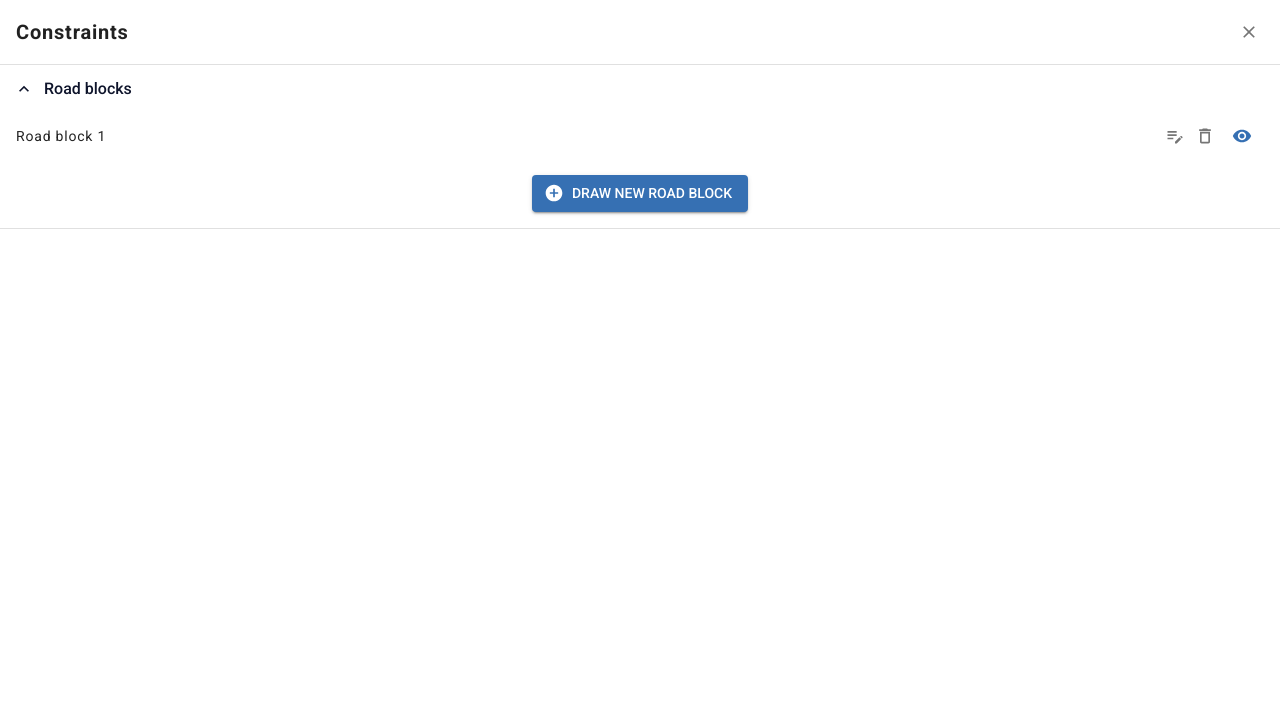
it: ConstraintsView › Delete Confirmation Dialog › opens dialog when delete button is clicked
The width and height of the screenshot is (1280, 720).
Step 1. Click the button named "Delete constraint" → [1205, 136], box [1190,121,1220,151]
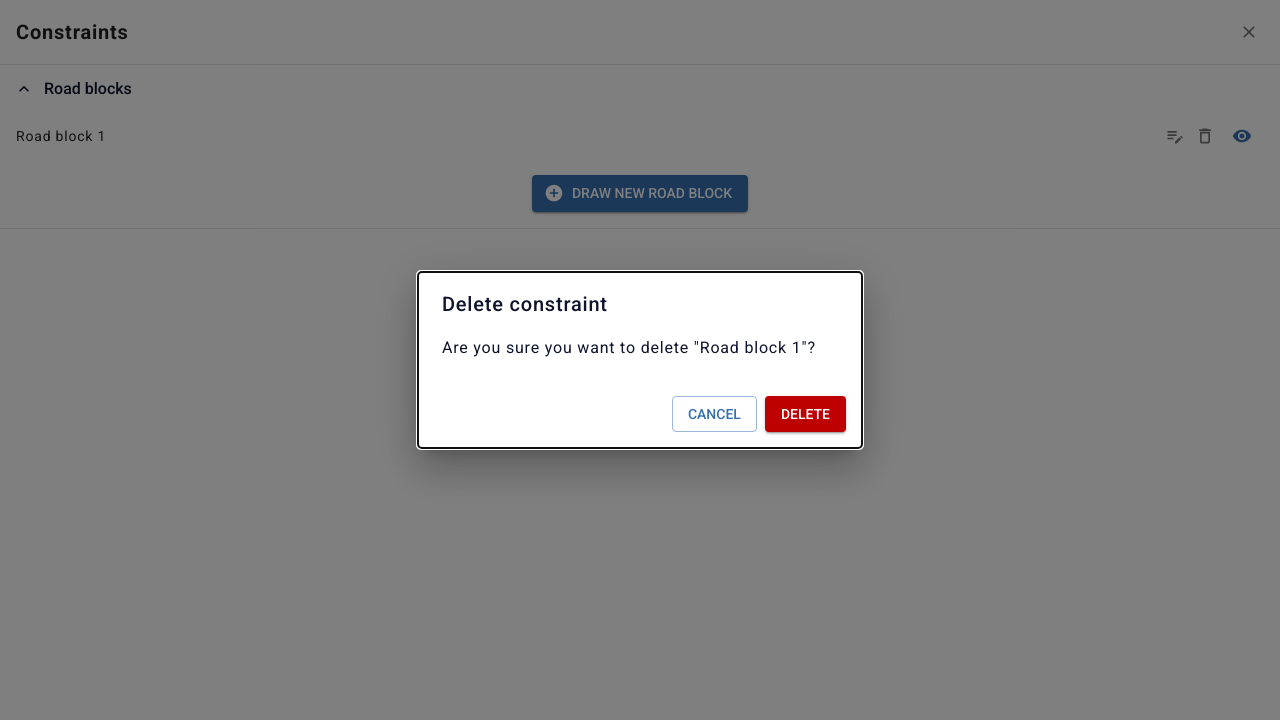
Expected: the text "Are you sure you want to delete \"Road block 1\"?" is shown, [442,336,838,360]
